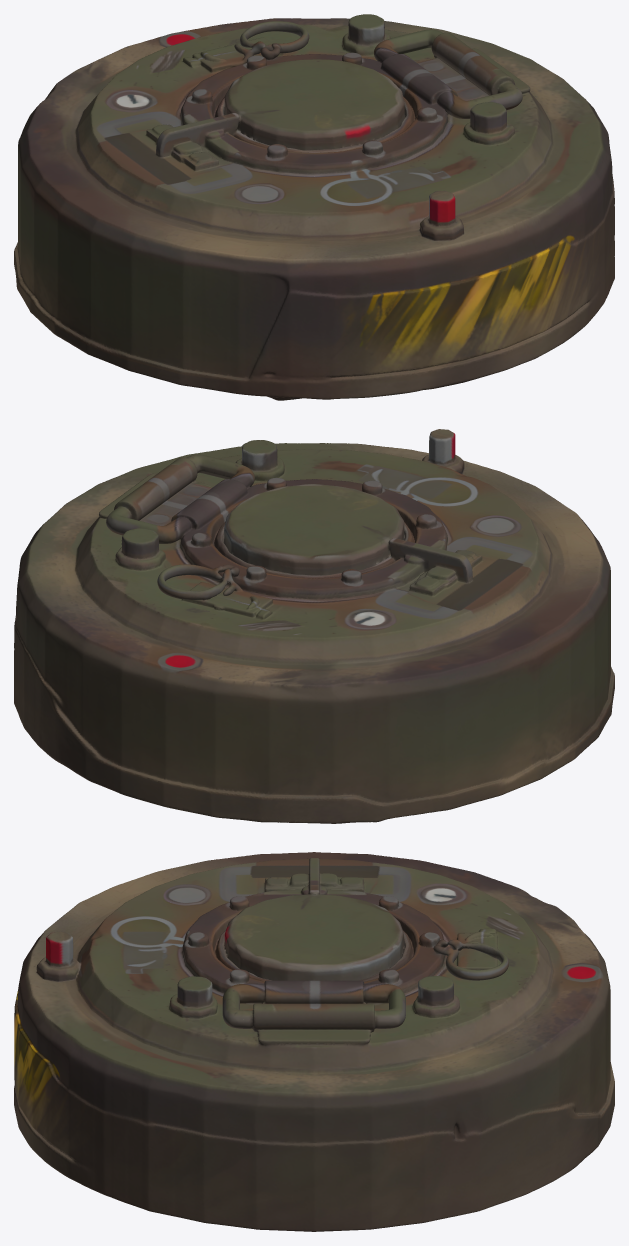
File: tripo_convert_ba0ff1c8-77cb-4133-9aba-c0394f302bf1.fbx
3 views of the same model, one above another, from view 1: azimuth 30°, elevation 25°; view 2: azimuth 150°, elevation 25°; view 3: azimuth 270°, elevation 25° (orthographic).
Parts seen in each view (by area): view 1: tripo_node_ba0ff1c8; view 2: tripo_node_ba0ff1c8; view 3: tripo_node_ba0ff1c8.
Boxes of the visible parts, bbox=[...] form: tripo_node_ba0ff1c8: bbox=[14, 14, 614, 400]; tripo_node_ba0ff1c8: bbox=[14, 429, 614, 823]; tripo_node_ba0ff1c8: bbox=[14, 852, 614, 1231].
Size of the model in its own units: 0.9989 by 0.4148 by 1.
Materials: 1 (1 with a texture image).
